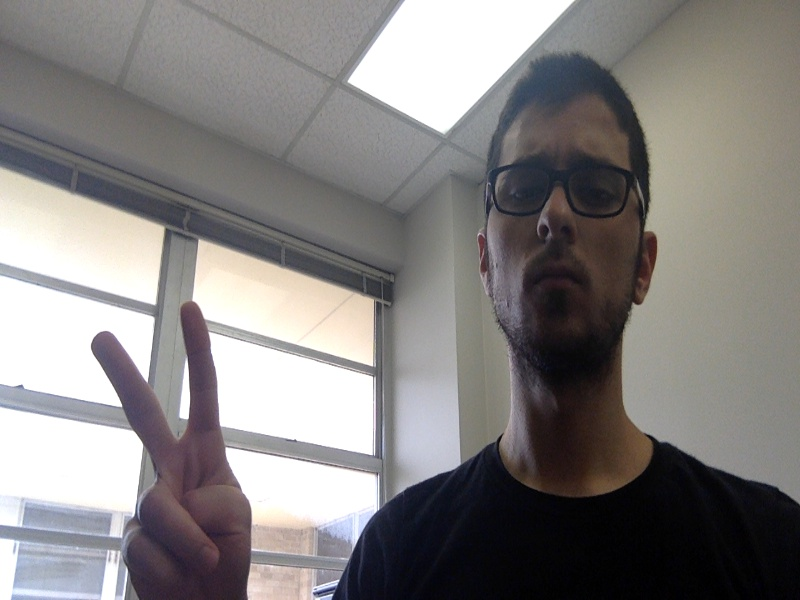2-hand: (91, 302, 252, 600)
